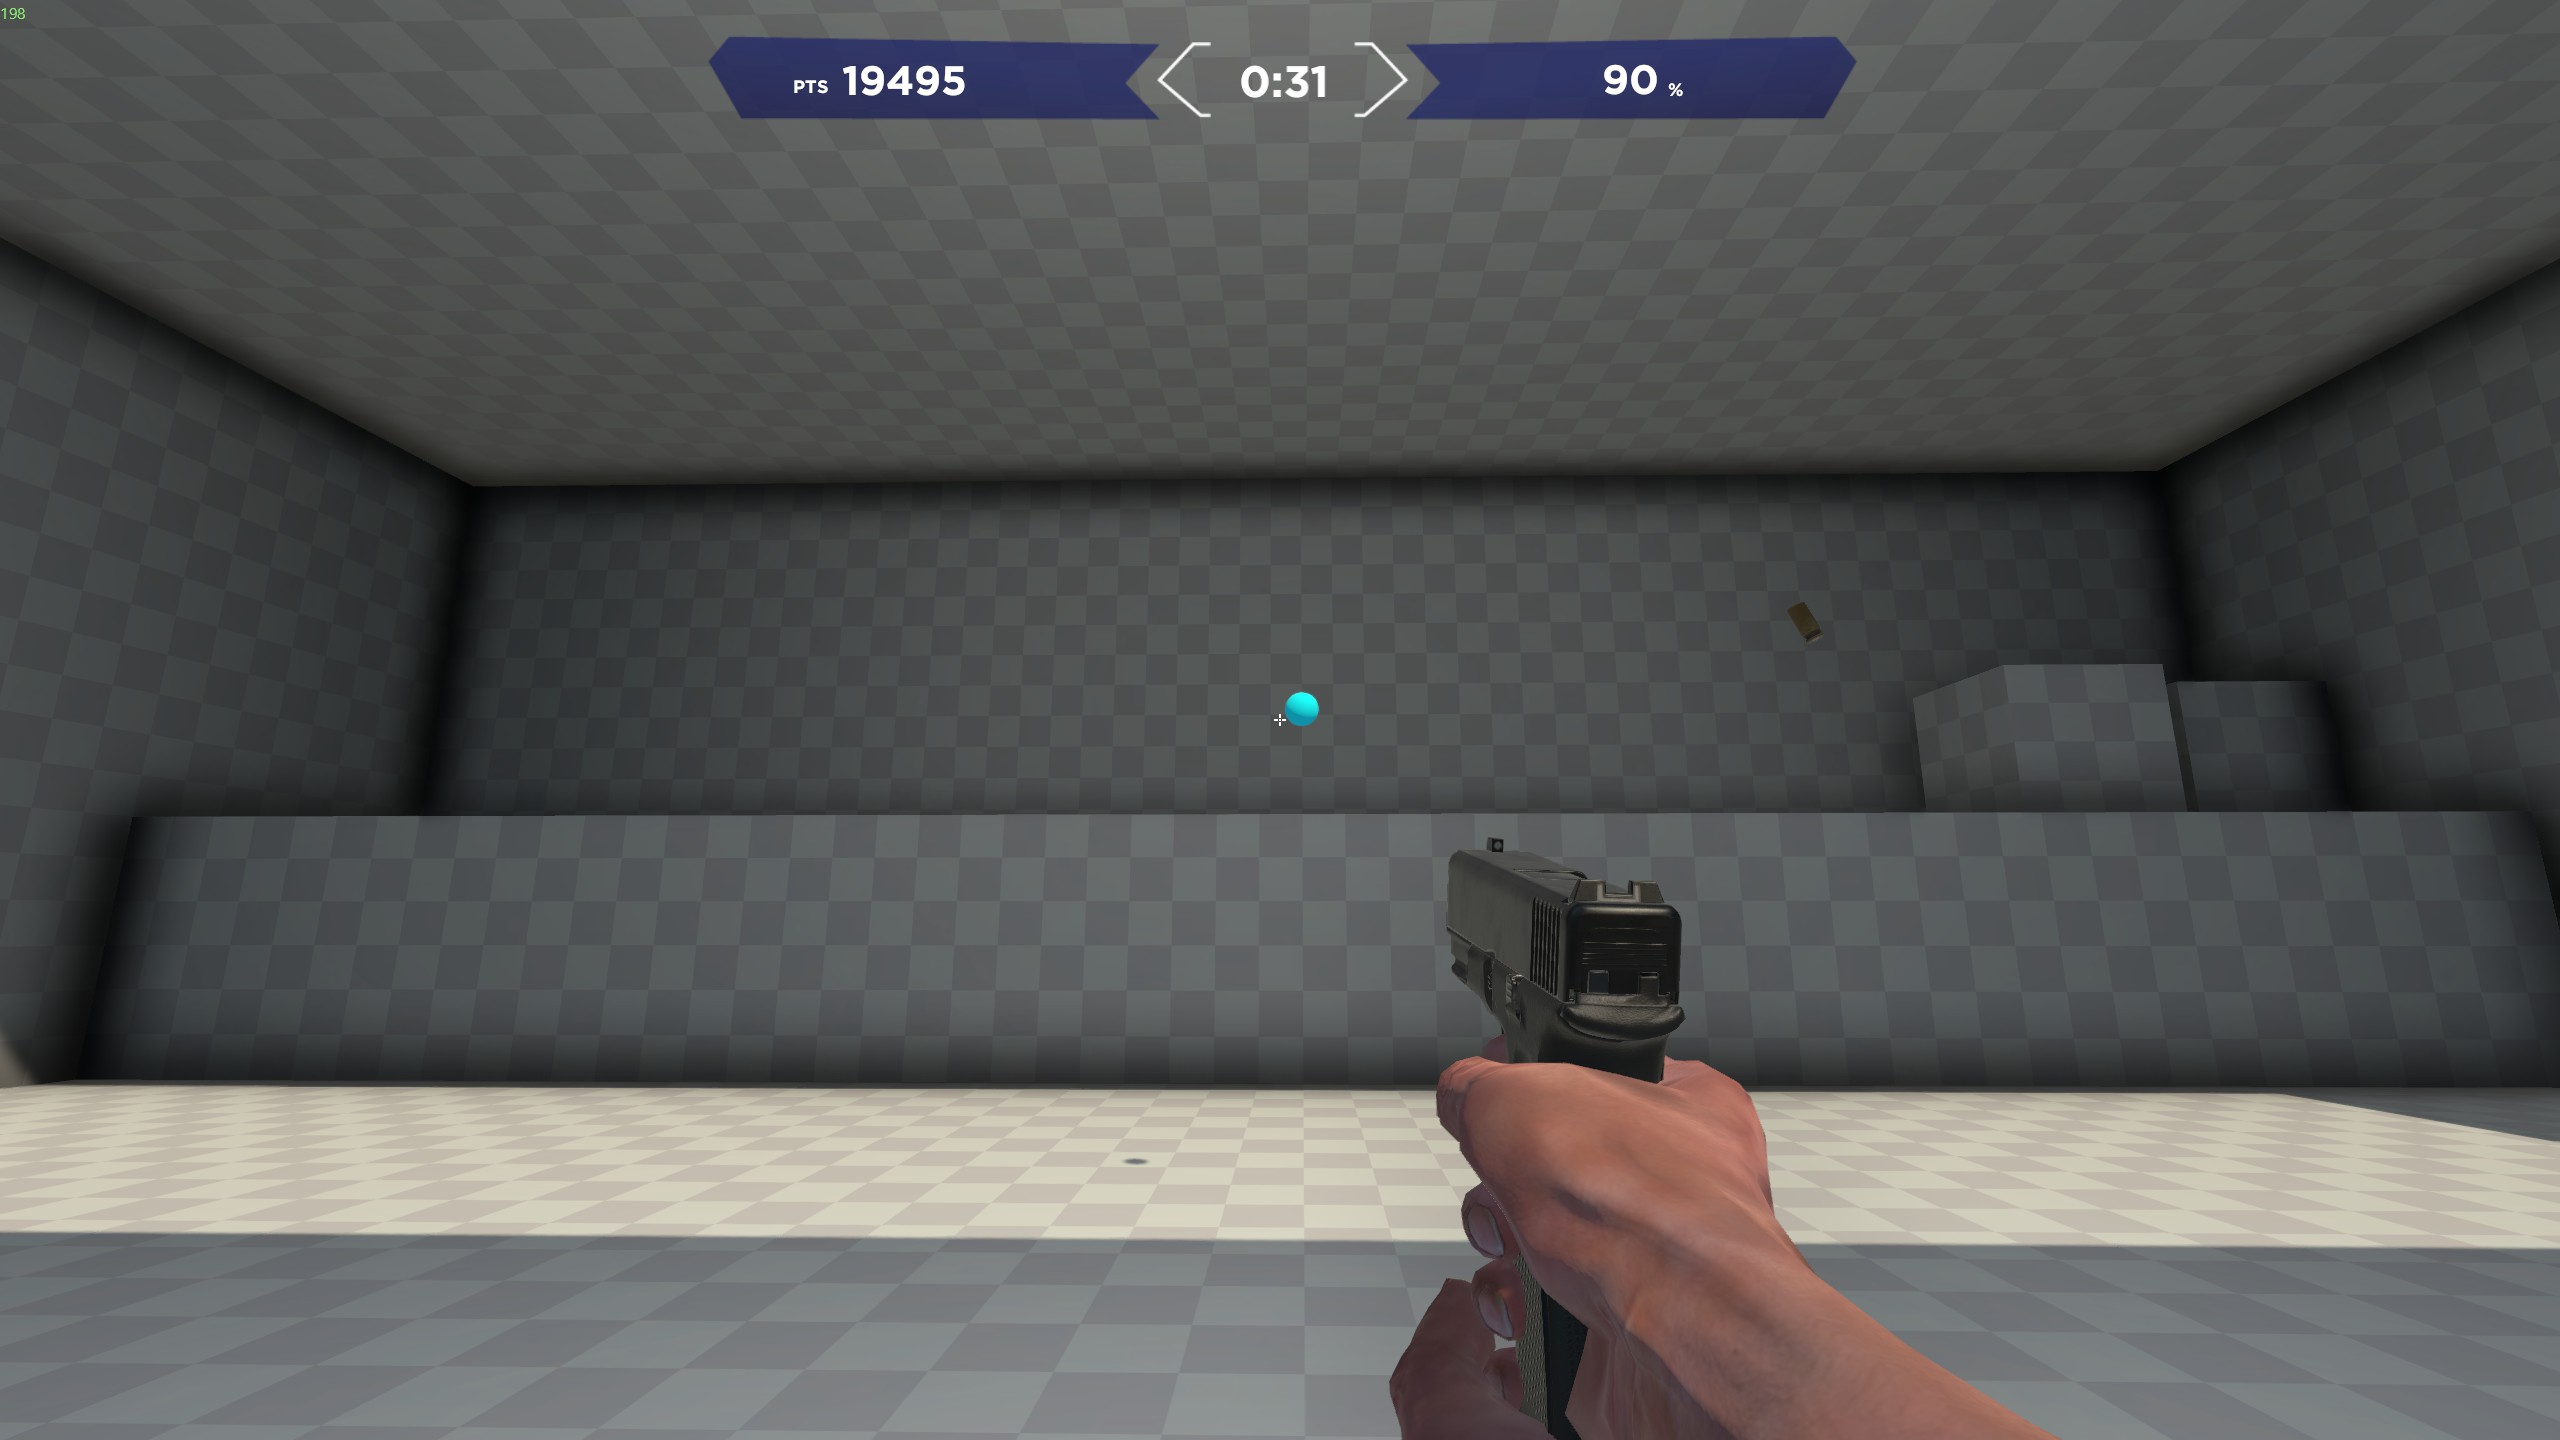Target: (1280, 693, 1324, 726)
